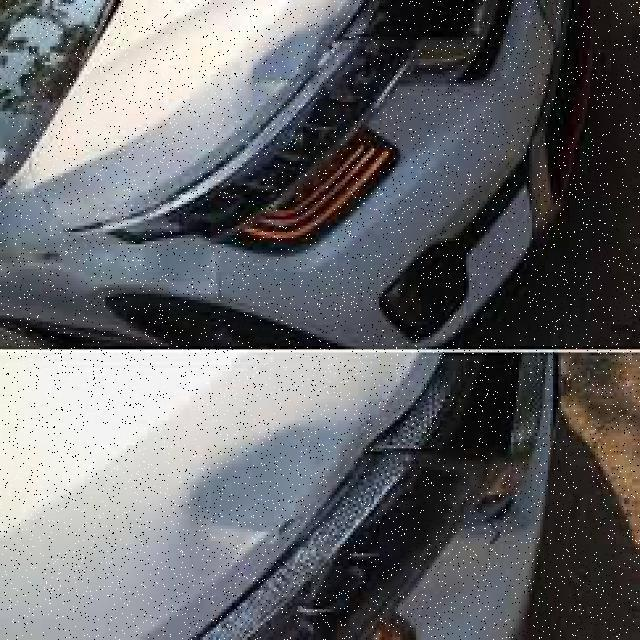headlight: (0, 349, 364, 637)
